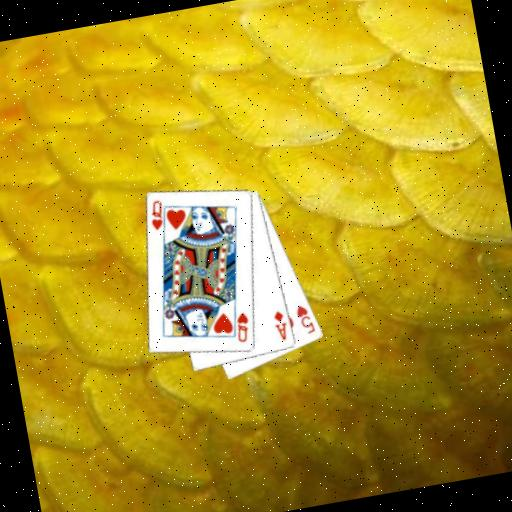5H: (292, 300, 318, 337)
AD: (269, 307, 290, 343)
QH: (144, 196, 172, 238), (230, 309, 253, 345)
